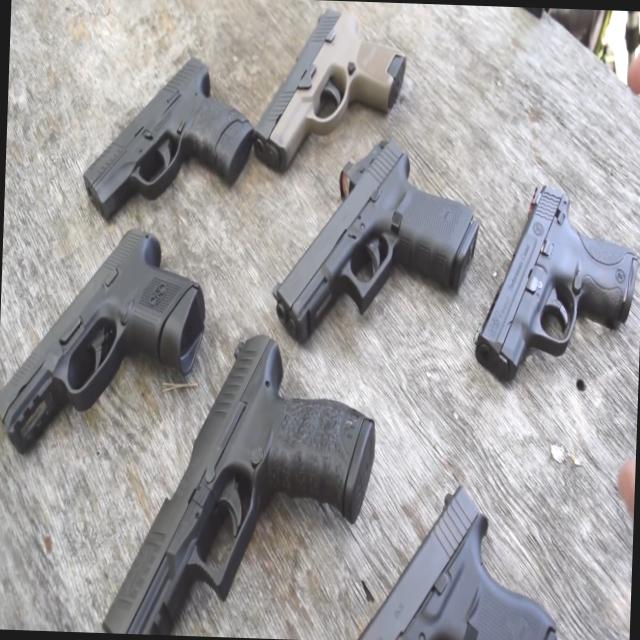handgun: (101, 360, 393, 639), (262, 148, 500, 356), (468, 167, 639, 411), (0, 244, 222, 425), (87, 40, 268, 242), (372, 480, 551, 639), (250, 11, 424, 169)
